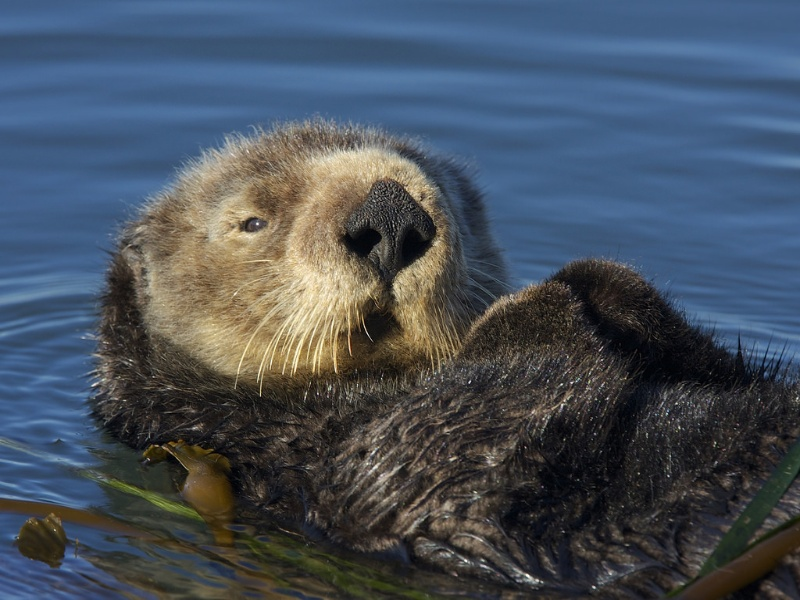minkish: (87, 111, 788, 579)
